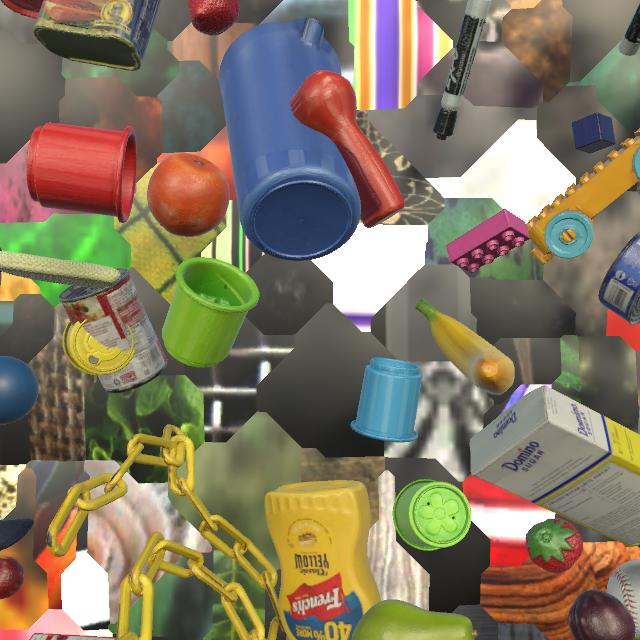ycb_004_sugar_box: (470, 385, 640, 547)
ycb_005_tomato_soup_can: (58, 268, 167, 393)
ycb_006_mustard_bottle: (264, 480, 381, 640)
ycb_007_tuna_fish_can: (598, 231, 640, 325)
ycb_009_gelatin_box: (29, 633, 116, 640)
ycb_010_potted_meat_can: (33, 0, 161, 71)
ycb_011_banana: (415, 299, 515, 395)
ycb_012_strawberry: (525, 518, 583, 573), (188, 0, 240, 36)
ycb_016_pear: (351, 599, 477, 640)
ycb_017_orange: (147, 153, 230, 237)
ycb_018_plum: (568, 589, 636, 640)
